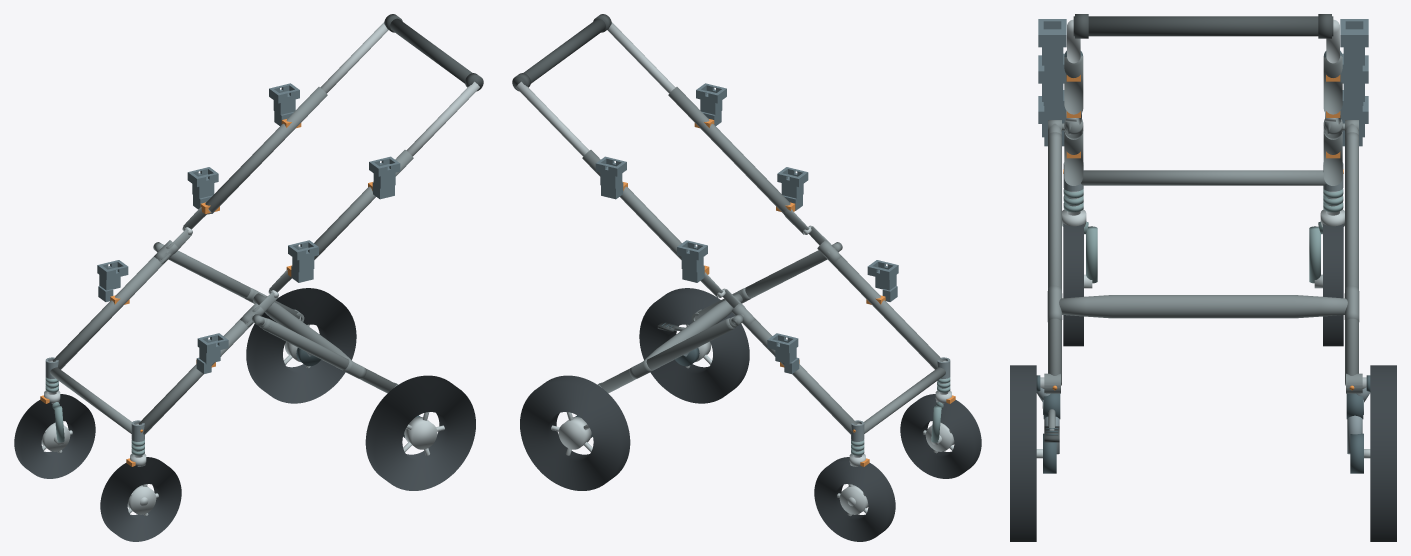
File: w550_state1_wheel_M.glb
3 renders of one model, left to right at view 1: azimuth 30°, elevation 25°; view 2: azimuth 150°, elevation 25°; view 3: azimuth 270°, elevation 25°, orthographic. The views are drawn at different scales.
Visible parts, largest first — view 1: RL_tire.002, RR_tire.002, FL_tire.002, FR_tire.002, main_upper_1.003, main_lower_1.003, V46_rear_leg_-1.003, main_lower_-1.003, round_handle.002, main_upper_-1.003, V46_rear_leg_1.003, V46_rearbar.003 (+11 smaller); view 2: RR_tire.002, RL_tire.002, FR_tire.002, FL_tire.002, main_upper_-1.003, main_lower_-1.003, V46_rear_leg_1.003, main_lower_1.003, round_handle.002, main_upper_1.003, V46_rear_leg_-1.003, V46_rearbar.003 (+11 smaller); view 3: V46_rearbar.003, round_handle.002, RL_tire.002, RR_tire.002, front_fixed_round_tube.002, V46_rear_leg_1.003, V46_rear_leg_-1.003, FL_tire.002, FR_tire.002, Universal_Cabin_Receiver_H_1, Universal_Cabin_Receiver_H_-1, Universal_Cabin_Receiver_M_1 (+13 smaller).
Part boxes in pixels (box(x1,y1,x2,y2)): RL_tire.002: box(365, 375, 475, 490); RR_tire.002: box(246, 288, 356, 403); FL_tire.002: box(100, 457, 181, 541); FR_tire.002: box(14, 394, 95, 478); main_upper_1.003: box(205, 87, 327, 213); main_lower_1.003: box(52, 253, 170, 369); V46_rear_leg_-1.003: box(261, 318, 396, 393); main_lower_-1.003: box(138, 319, 252, 434); round_handle.002: box(390, 18, 482, 89); main_upper_-1.003: box(314, 150, 413, 259); V46_rear_leg_1.003: box(168, 250, 300, 318); V46_rearbar.003: box(253, 293, 351, 360); RR_tire.002: box(520, 375, 630, 490); RL_tire.002: box(639, 288, 749, 403); FR_tire.002: box(814, 457, 895, 541); FL_tire.002: box(900, 394, 981, 478); main_upper_-1.003: box(668, 87, 790, 213); main_lower_-1.003: box(825, 253, 943, 369); V46_rear_leg_1.003: box(599, 318, 734, 393); main_lower_1.003: box(743, 319, 857, 434); round_handle.002: box(513, 18, 605, 89); main_upper_1.003: box(582, 150, 681, 259); V46_rear_leg_-1.003: box(695, 250, 827, 318); V46_rearbar.003: box(644, 293, 742, 360); V46_rearbar.003: box(1059, 295, 1347, 318); round_handle.002: box(1073, 16, 1333, 36); RL_tire.002: box(1010, 365, 1036, 541); RR_tire.002: box(1370, 365, 1396, 541); front_fixed_round_tube.002: box(1081, 170, 1325, 185); V46_rear_leg_1.003: box(1345, 132, 1358, 385); V46_rear_leg_-1.003: box(1048, 132, 1061, 385); FL_tire.002: box(1063, 224, 1083, 346); FR_tire.002: box(1323, 224, 1343, 346); Universal_Cabin_Receiver_H_1: box(1340, 19, 1368, 82); Universal_Cabin_Receiver_H_-1: box(1038, 19, 1066, 82); Universal_Cabin_Receiver_M_1: box(1340, 55, 1368, 118).
Size of the model in its own units: 1.12 by 1.07 by 0.656.
